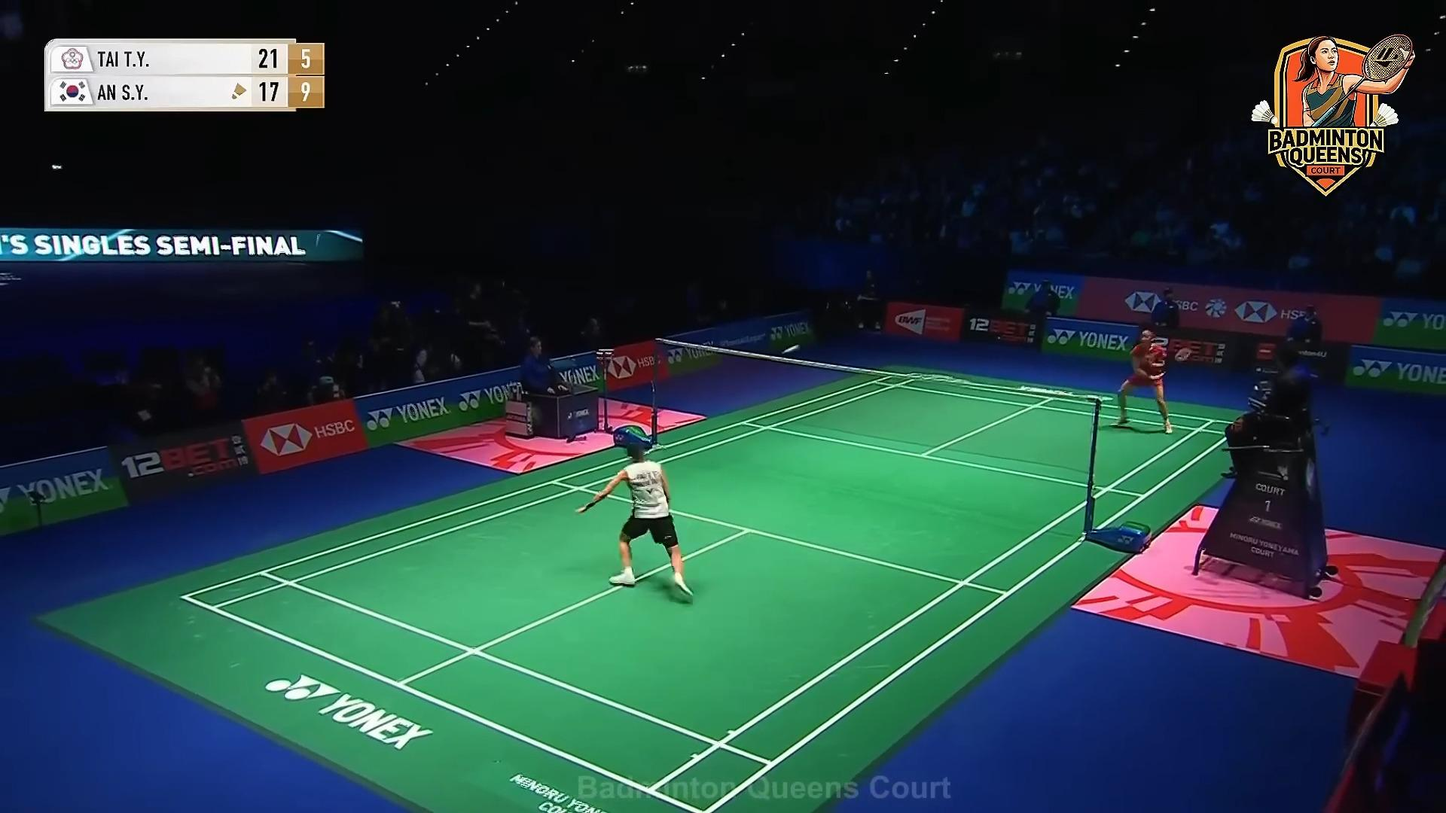player: (577, 438, 695, 599), (1117, 321, 1172, 435)
